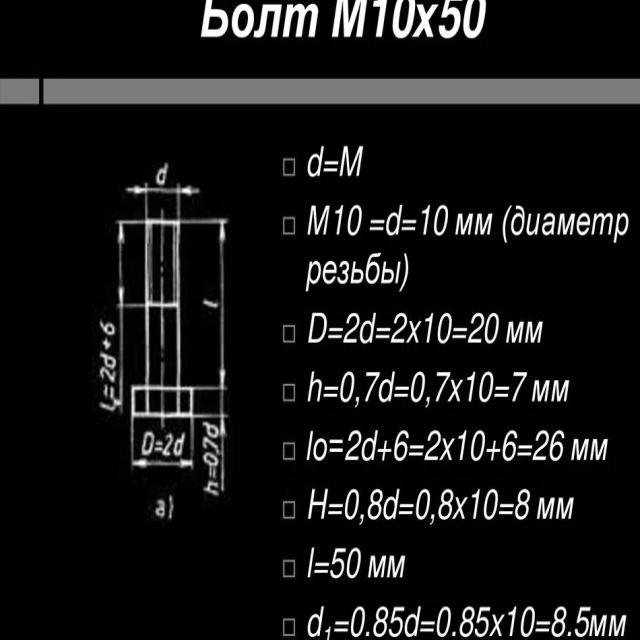marking_line: (197, 216, 237, 499), (182, 212, 235, 386), (195, 217, 230, 392), (111, 219, 130, 416), (195, 385, 228, 495), (125, 419, 198, 467), (115, 219, 145, 309), (124, 185, 203, 219)
numeric: (339, 144, 364, 180), (307, 201, 331, 237), (377, 368, 397, 404), (517, 604, 538, 638), (345, 428, 364, 463), (432, 203, 451, 237), (403, 604, 421, 639), (361, 430, 380, 463), (467, 311, 484, 347), (510, 369, 527, 405), (532, 426, 549, 462), (473, 606, 492, 638), (347, 202, 364, 237), (360, 311, 377, 346), (470, 428, 487, 463), (550, 605, 567, 640), (390, 311, 408, 344), (515, 486, 533, 519), (573, 607, 591, 640), (437, 312, 453, 349), (342, 309, 358, 346), (424, 428, 441, 462), (550, 427, 567, 461), (331, 546, 348, 580), (394, 427, 410, 463), (386, 203, 403, 236), (439, 487, 456, 520), (458, 605, 475, 638), (307, 369, 323, 404), (344, 486, 360, 521), (308, 312, 326, 343), (362, 371, 380, 402), (307, 146, 324, 178), (502, 428, 518, 462), (389, 603, 405, 637), (485, 312, 501, 345), (433, 371, 449, 404), (373, 606, 389, 639), (415, 488, 432, 519), (366, 253, 382, 285), (483, 487, 499, 519), (346, 547, 362, 579), (350, 605, 366, 637), (436, 605, 452, 637), (367, 489, 383, 520), (411, 371, 426, 403), (479, 371, 494, 403), (454, 212, 474, 235), (474, 213, 493, 236), (341, 371, 355, 402), (506, 604, 518, 640), (465, 371, 478, 403), (455, 430, 468, 462), (470, 487, 482, 520), (380, 258, 394, 286), (172, 429, 186, 456), (141, 431, 156, 456), (448, 378, 463, 403), (313, 436, 328, 461), (349, 262, 364, 285), (98, 352, 117, 370), (156, 161, 169, 186), (422, 204, 432, 236), (424, 312, 434, 344), (337, 260, 350, 284), (334, 205, 344, 236), (202, 420, 219, 438), (203, 478, 220, 496), (98, 367, 117, 382), (163, 429, 173, 457), (202, 451, 219, 467), (100, 321, 116, 336), (201, 435, 219, 448), (307, 430, 314, 462), (395, 259, 401, 284)
special_symbol: (489, 613, 505, 638), (322, 383, 339, 402), (451, 324, 468, 341), (419, 618, 436, 635), (375, 324, 391, 342), (493, 383, 511, 398), (400, 218, 419, 232), (394, 383, 410, 399), (517, 443, 533, 459), (313, 562, 330, 577), (408, 443, 424, 458), (327, 503, 344, 517), (100, 384, 115, 399), (330, 439, 345, 454), (327, 326, 343, 340), (369, 218, 386, 231), (498, 502, 515, 515), (323, 159, 338, 173), (399, 503, 413, 516), (536, 620, 551, 632), (103, 338, 112, 351), (155, 439, 163, 453), (567, 631, 572, 638)
